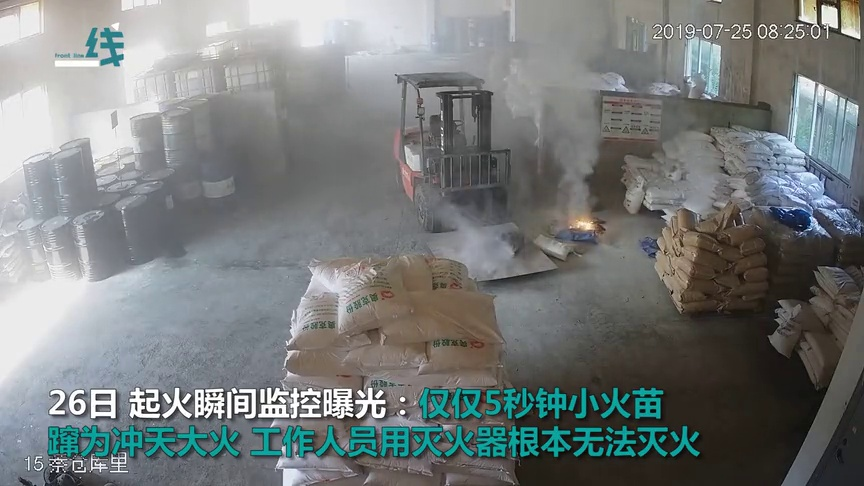fire: (572, 199, 594, 231)
smoke: (515, 50, 606, 183), (668, 118, 715, 213)
